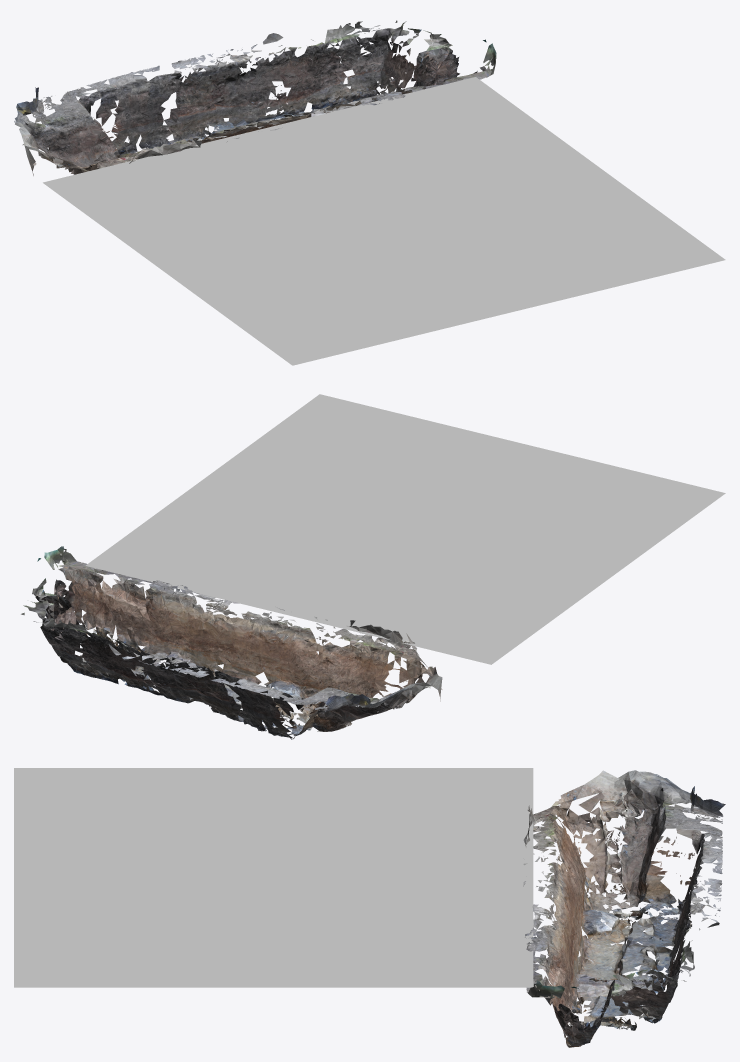
The model's file is Iseki2.obj.
3 renders of one model, top to bottom at view 1: azimuth 30°, elevation 25°; view 2: azimuth 150°, elevation 25°; view 3: azimuth 270°, elevation 25°, orthographic. The views are drawn at different scales.
Parts seen in each view (by area): view 1: Plane, obj1.002_obj1.003; view 2: Plane, obj1.002_obj1.003; view 3: Plane, obj1.002_obj1.003.
Part boxes in pixels (bbox=[...]): Plane: bbox=[43, 77, 725, 365]; obj1.002_obj1.003: bbox=[14, 20, 496, 175]; Plane: bbox=[85, 394, 725, 664]; obj1.002_obj1.003: bbox=[21, 546, 442, 739]; Plane: bbox=[14, 768, 533, 987]; obj1.002_obj1.003: bbox=[523, 770, 725, 1047].
Bounding box in the file's own units: 2.14 × 0.3946 × 2.74.
